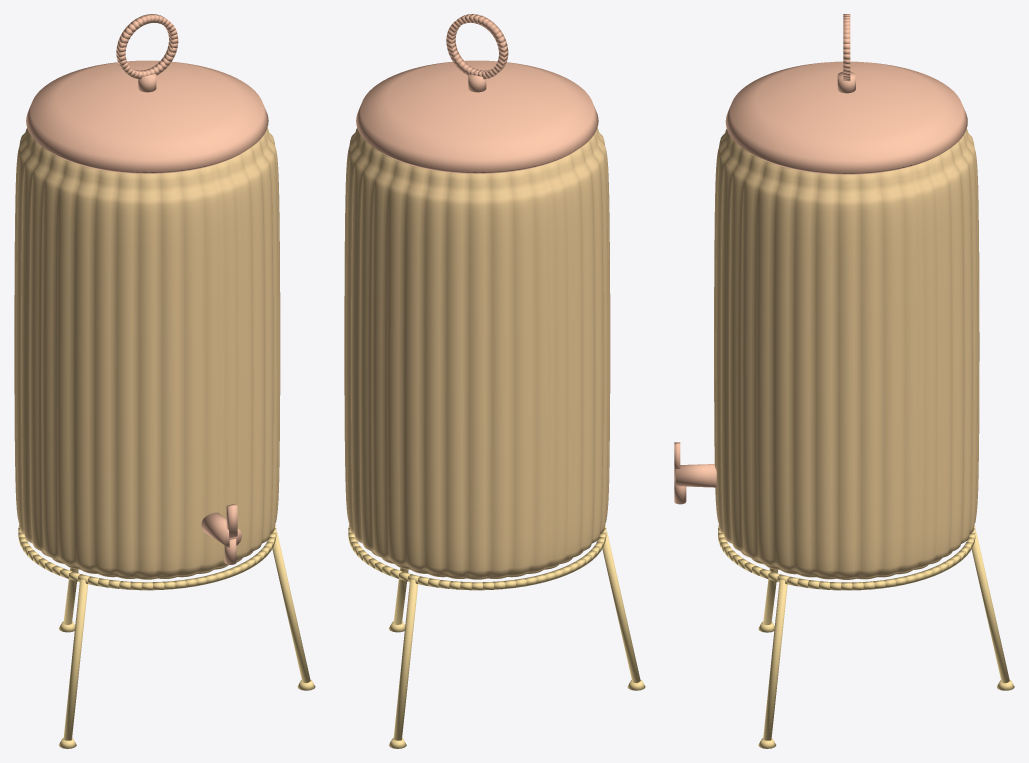
The model's file is dispenser-c.glb.
3 renders of one model, left to right at view 1: azimuth 30°, elevation 25°; view 2: azimuth 150°, elevation 25°; view 3: azimuth 270°, elevation 25°, orthographic.
Visible parts, largest first — view 1: dispenser_Glass, dispenser_Lid, dispenser_Stand, dispenser_Lid2, dispenser_Tap; view 2: dispenser_Glass, dispenser_Lid, dispenser_Stand, dispenser_Lid2; view 3: dispenser_Glass, dispenser_Lid, dispenser_Stand, dispenser_Tap, dispenser_Lid2.
Part boxes in pixels (x1,y1,x2,y2): dispenser_Glass: (14, 128, 280, 579); dispenser_Lid: (26, 60, 268, 173); dispenser_Stand: (18, 525, 315, 748); dispenser_Lid2: (116, 14, 178, 92); dispenser_Tap: (201, 504, 241, 564); dispenser_Glass: (344, 128, 610, 579); dispenser_Lid: (356, 60, 598, 173); dispenser_Stand: (348, 525, 645, 748); dispenser_Lid2: (446, 14, 508, 92); dispenser_Glass: (714, 129, 979, 579); dispenser_Lid: (725, 61, 967, 174); dispenser_Stand: (718, 525, 1014, 748); dispenser_Tap: (674, 442, 716, 504); dispenser_Lid2: (837, 14, 855, 93).
Size of the model in its own units: 0.1939 by 0.4882 by 0.225.
